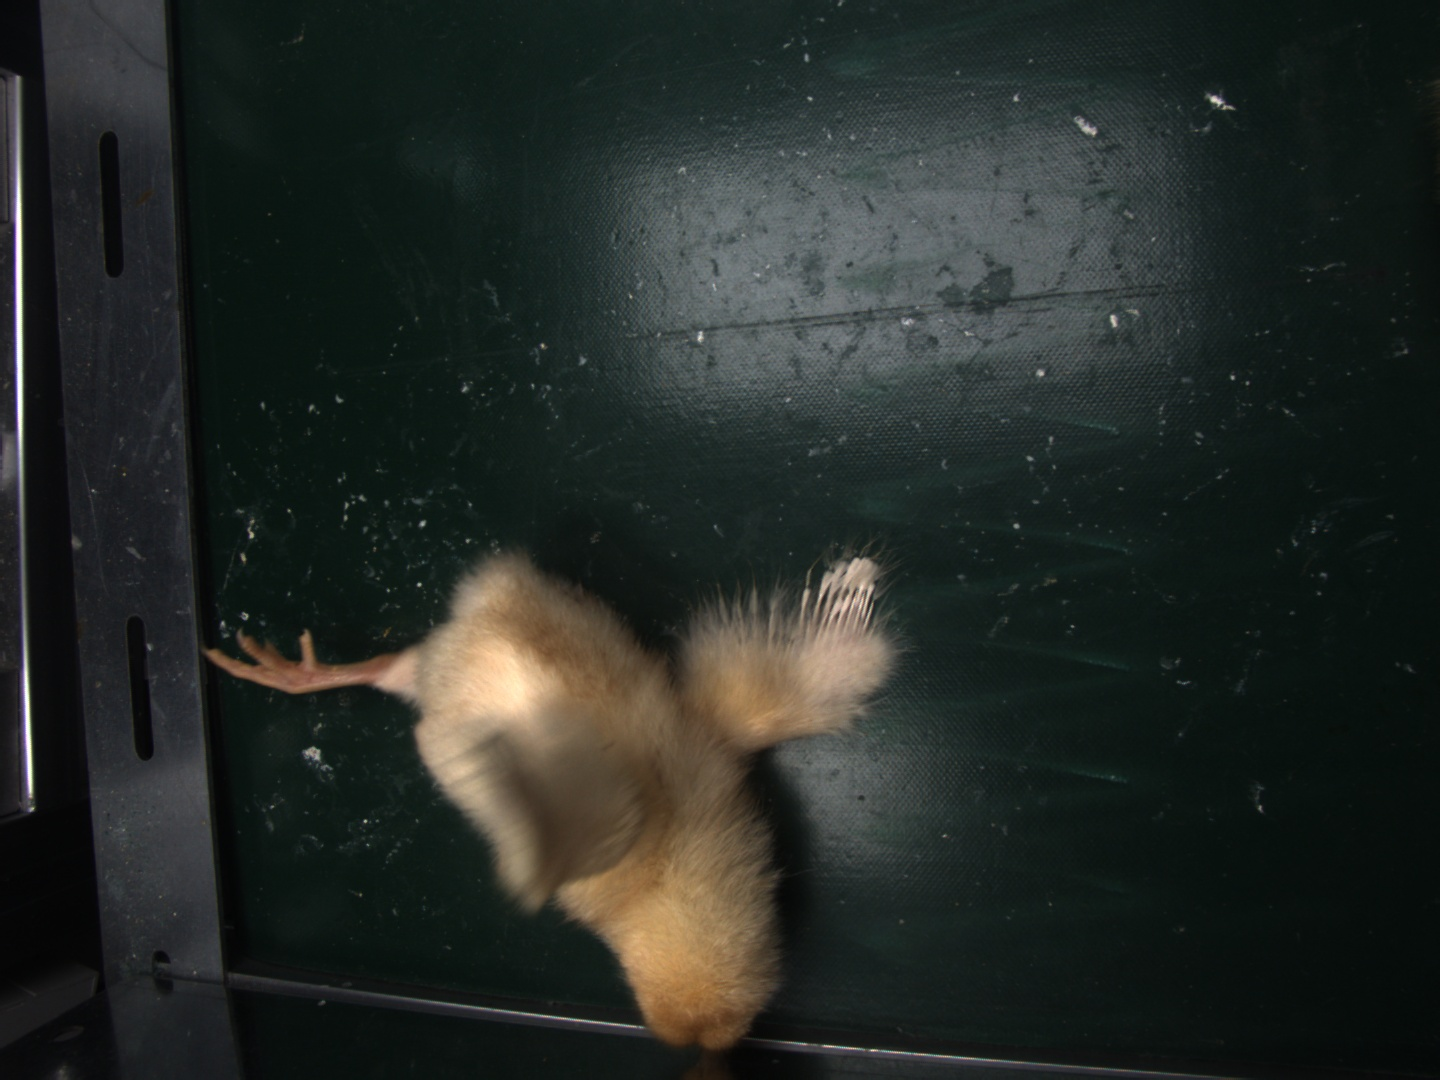female: (799, 555, 884, 627)
